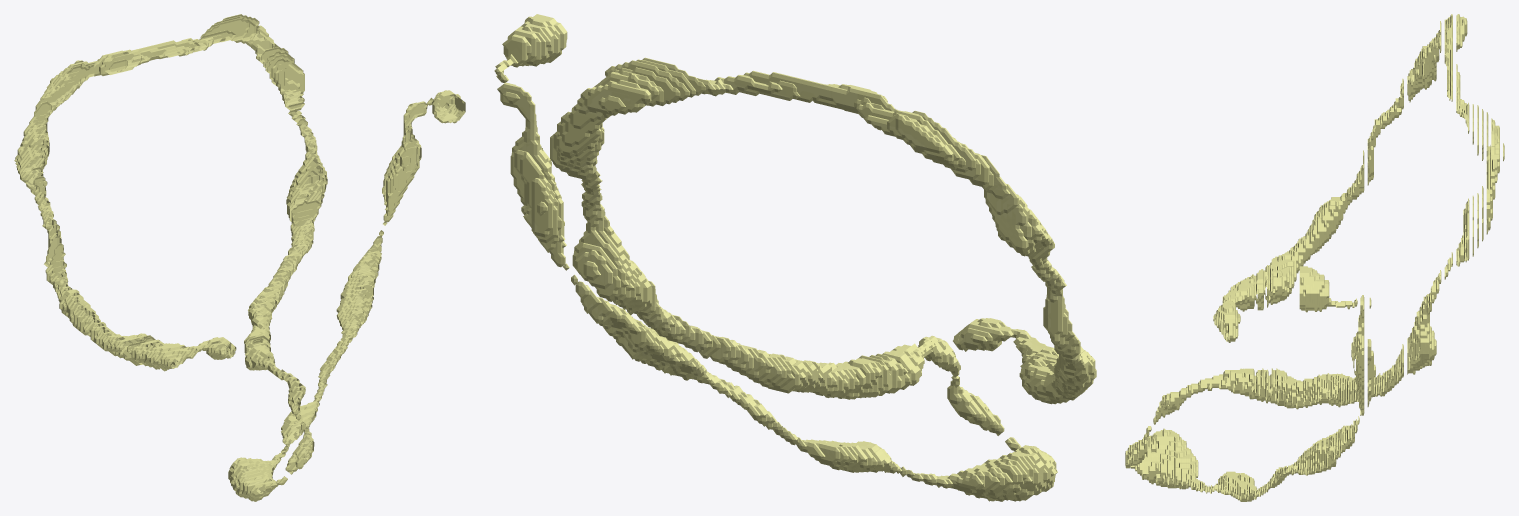
File: SVV_RIAR.gltf
The picture shows the model from 3 angles, left to right: view 1: azimuth 30°, elevation 25°; view 2: azimuth 150°, elevation 25°; view 3: azimuth 270°, elevation 25°; orthographic projection. The views are drawn at different scales.
Visible parts, largest first — view 1: RIAR; view 2: RIAR; view 3: RIAR.
Part boxes in pixels (x1=…): RIAR: x1=14, y1=14, x2=465, y2=501; RIAR: x1=494, y1=14, x2=1096, y2=501; RIAR: x1=1125, y1=14, x2=1504, y2=501.
Size of the model in its own units: 91695 by 79914 by 62354.
